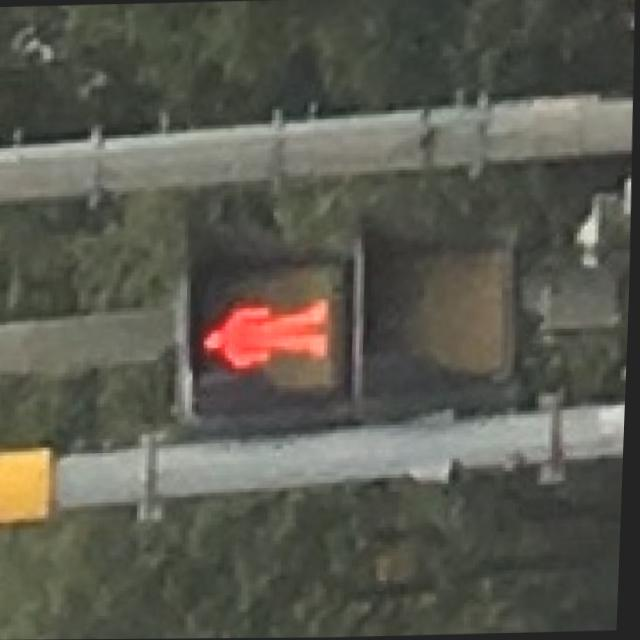red_light: (186, 263, 343, 387)
